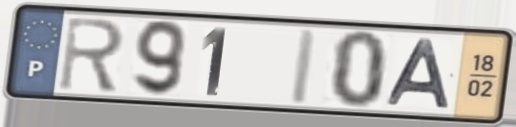0: (325, 28, 392, 111)
1: (201, 26, 228, 98)
9: (130, 19, 190, 100)
A: (384, 37, 454, 111)
I: (285, 26, 322, 108)
R: (56, 14, 127, 94)
